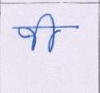i_matra: (41, 13, 59, 52)
